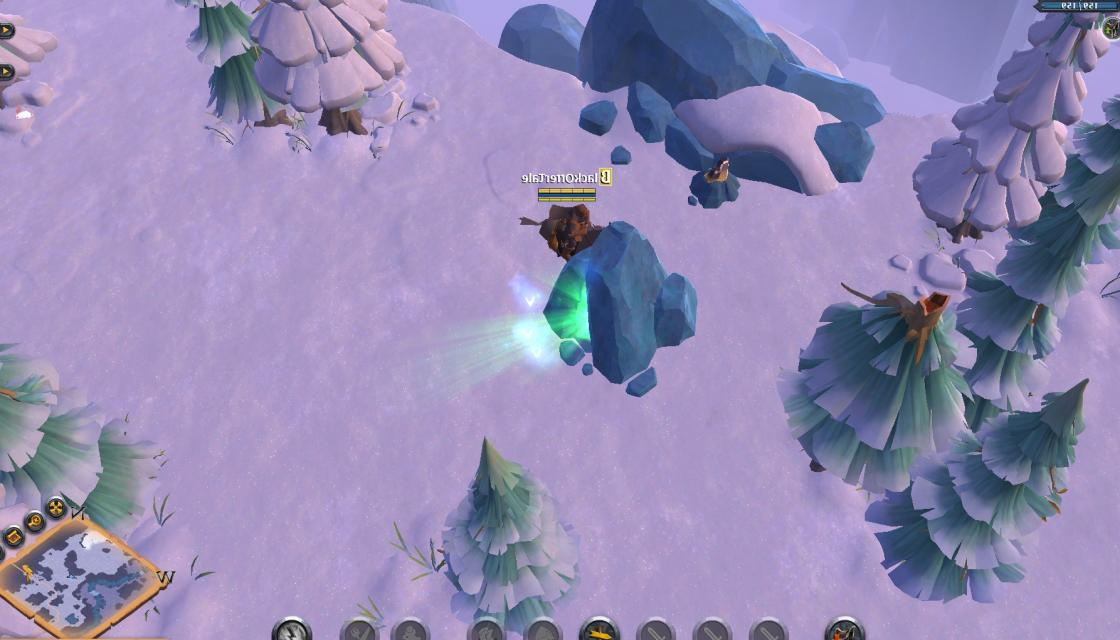copperore: (682, 154, 746, 212)
